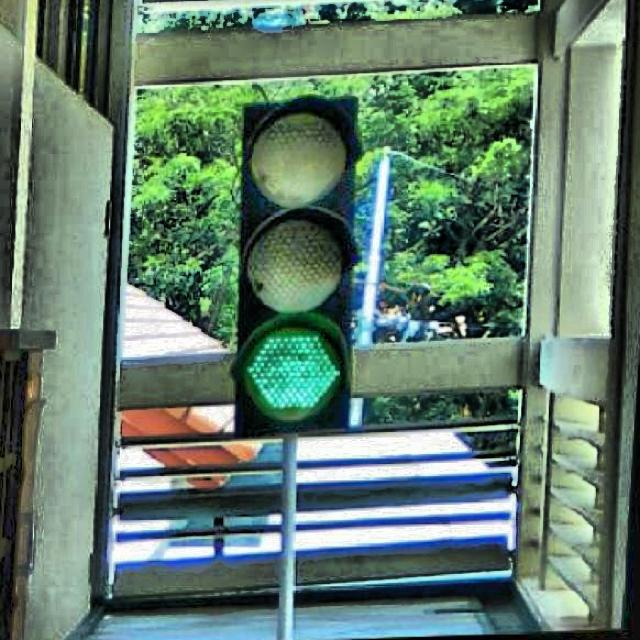green: (234, 96, 354, 436)
